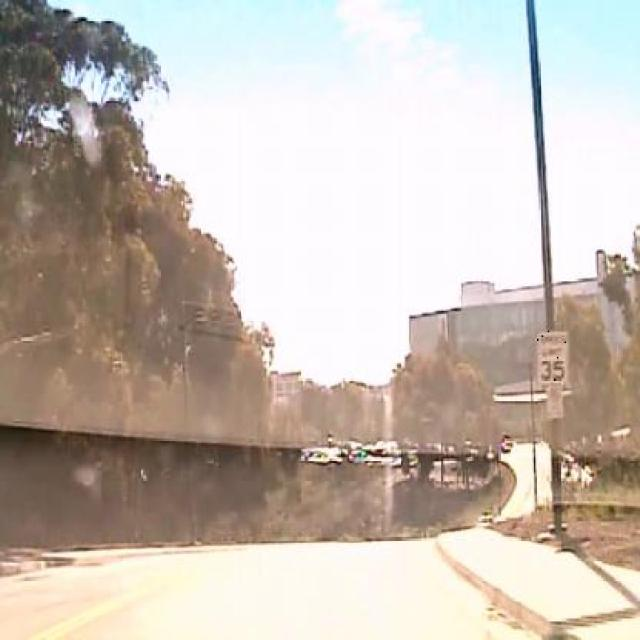speedLimit35: (537, 329, 570, 387)
